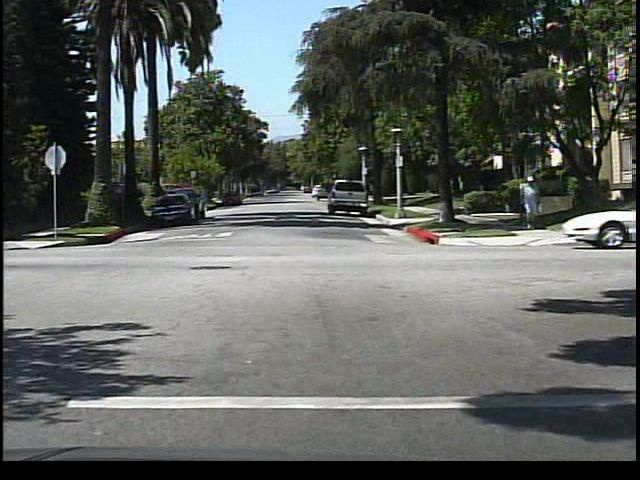person: (516, 173, 544, 230)
